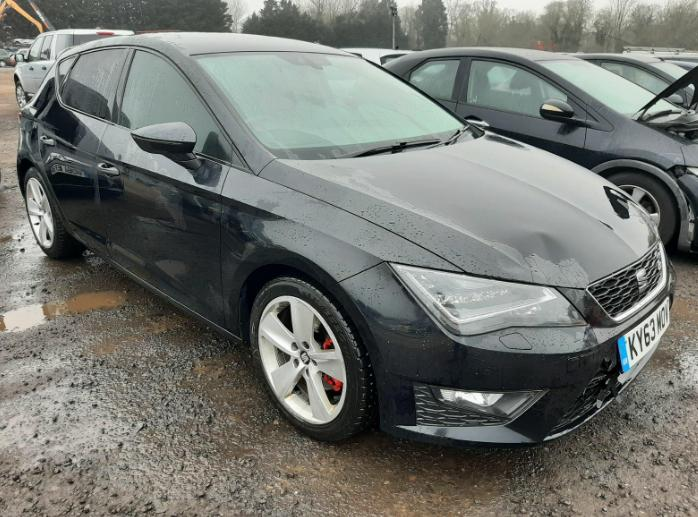Broken part: (329, 262, 676, 450)
Dent: (495, 231, 585, 284)
